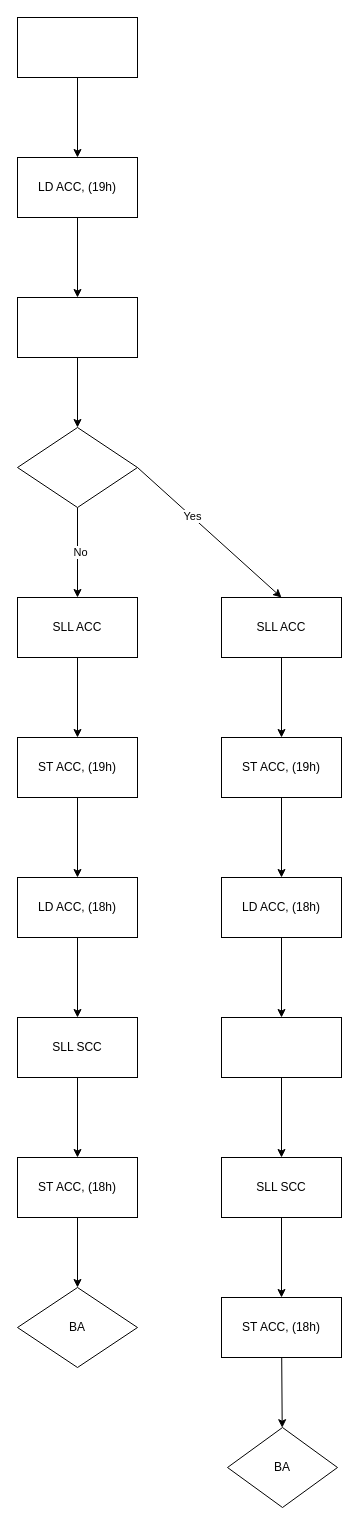
Some shapes in this 359 by 1525 pixel diagram are drawn without their labels. Here are the shapes that lost their labels. From the top down, the centre of each, then its label:
At point (77, 47): "SHIFT_LEFT".
At point (77, 327): "ADC ACC, 80h".
At point (77, 467): "BC".
At point (281, 1047): "ADD ACC, 01h".
